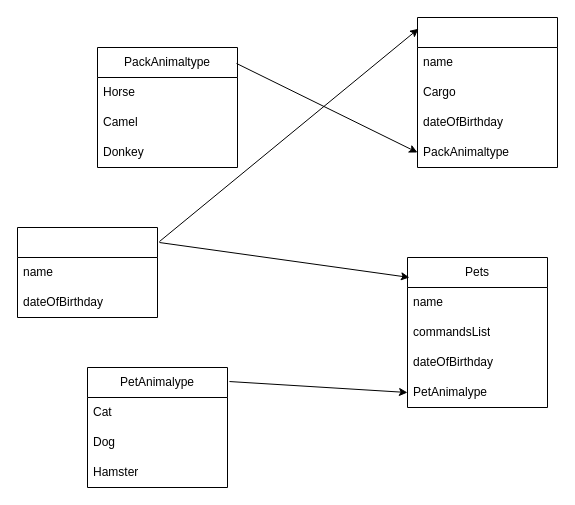
The diagram is 575 pixels wide and 505 high, and some of its shapes have lost their labels. Each missing label, with the box of its shape:
Animals(abstract): (16, 226, 158, 318)
PackAnimals: (416, 16, 558, 168)
